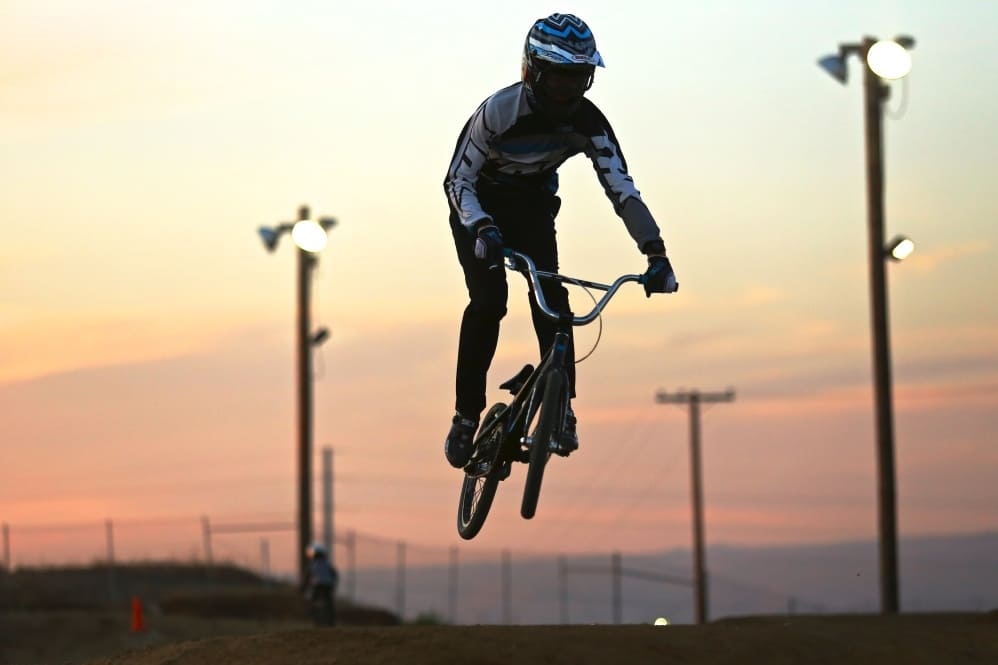person: (440, 11, 683, 475)
